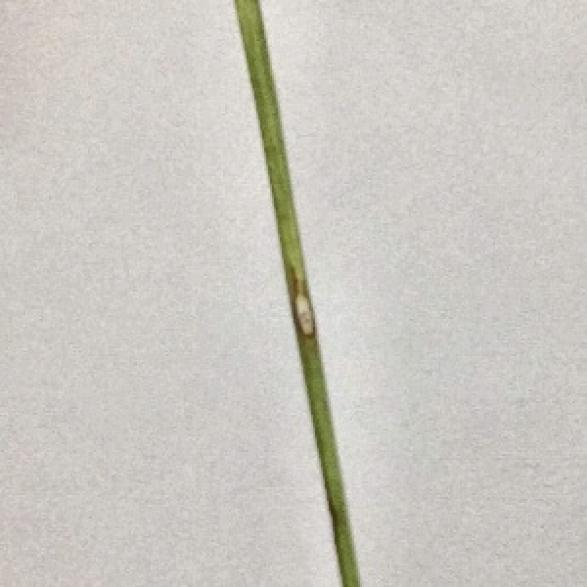Leaf_smut: (282, 252, 317, 334)
